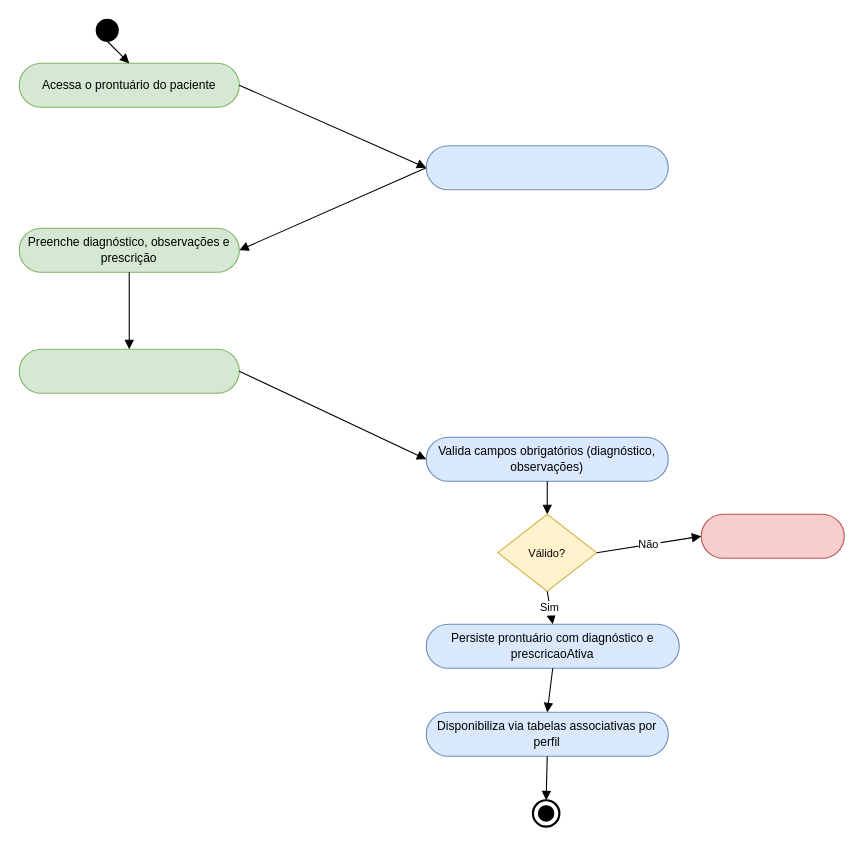
Some shapes in this 864 by 847 pixel diagram are drawn without their labels. The box of each missing label's shape, as (x1, y1, x2, y2) in pixels:
Confirma o registro: (18, 348, 239, 393)
Exibe erro de validação: (700, 513, 844, 558)
Exibe prontuário atual e campo de evolução: (425, 145, 668, 190)
